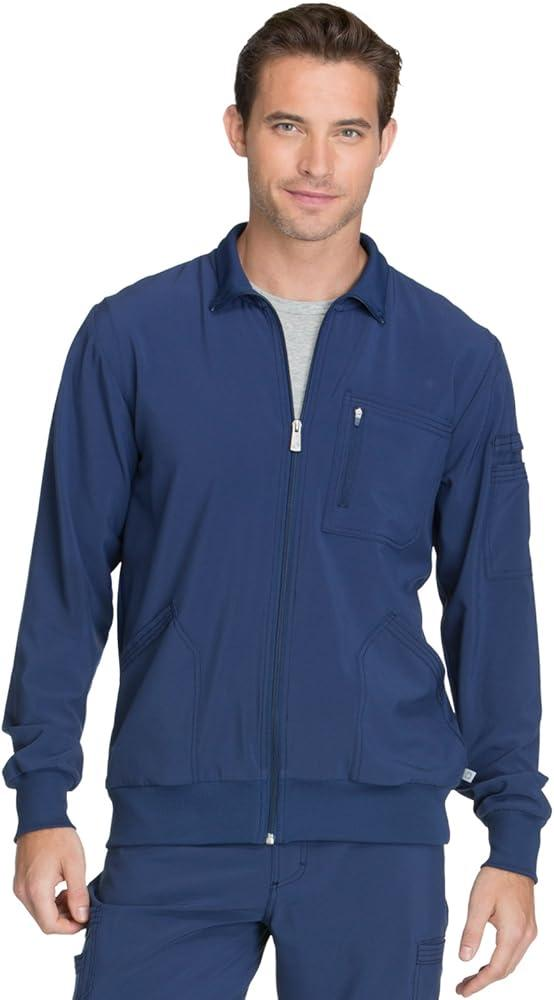jacket: (4, 218, 552, 884)
trousers: (66, 834, 454, 1000)
